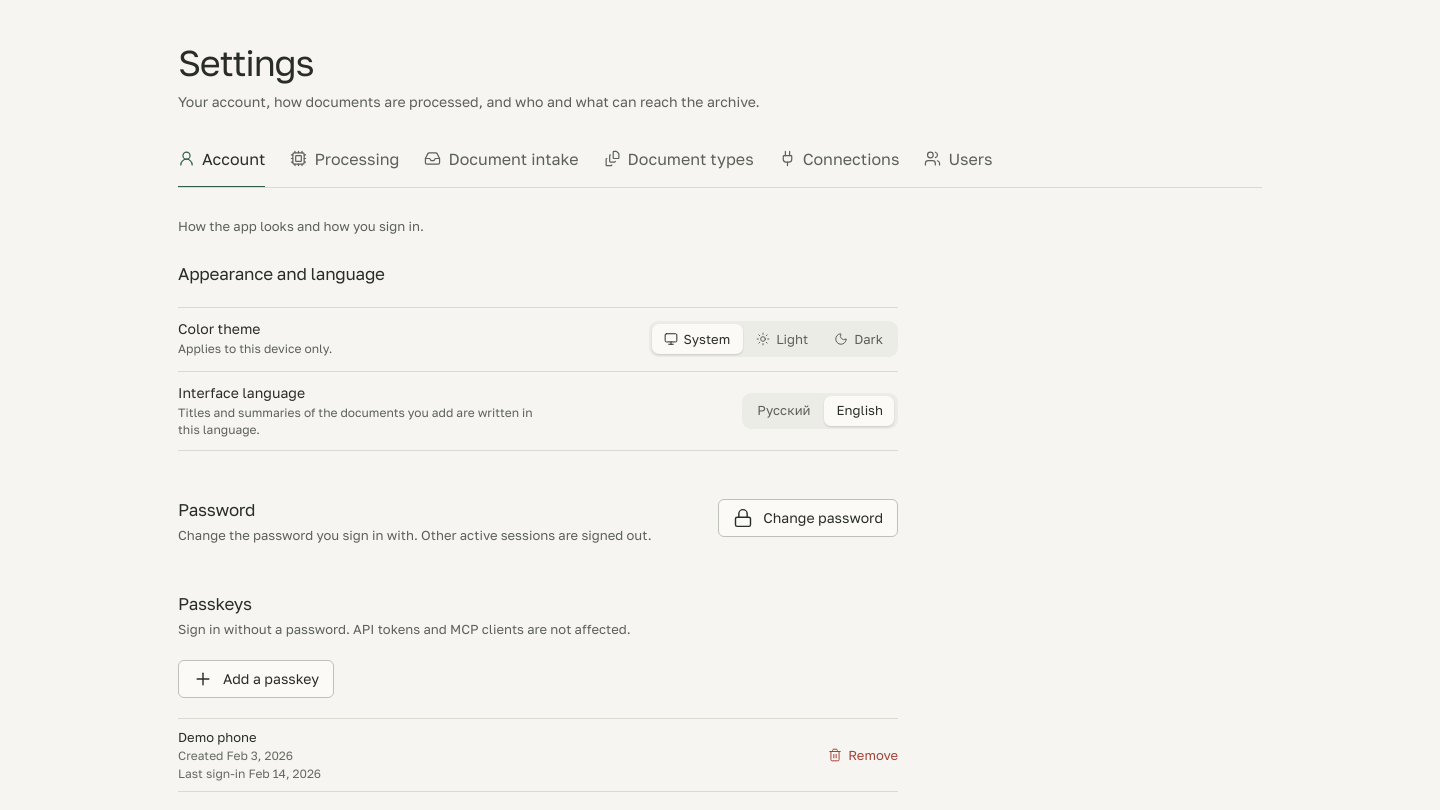
SettingsPage › shows document types as a compact read-only list until customization is requested
This screenshot has width=1440, height=810.
What coordinates should you click on to do the following:
click the tab "Document types"
I would click on:
 (679, 164)
Its box is [604,140,754,187].
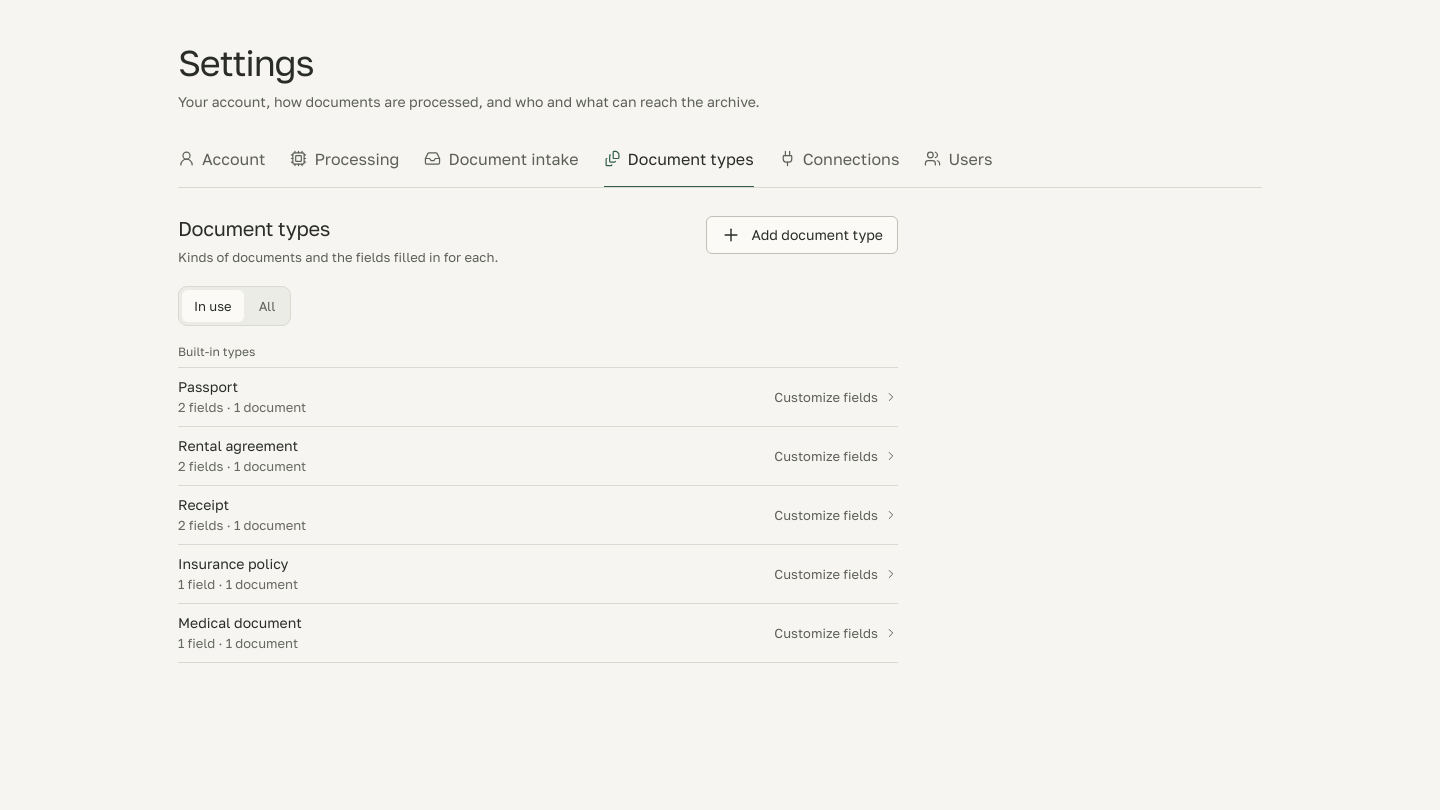
Expected: the button "Customize fields" in the row of "Receipt" is shown, [774,498,898,530]
